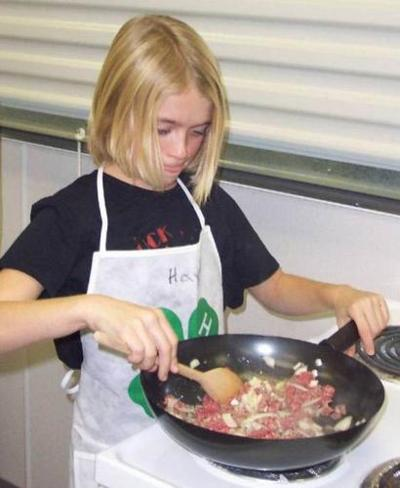person: (1, 14, 388, 488)
